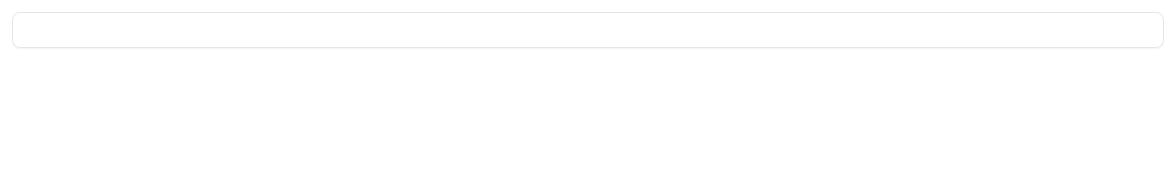
Scenario: WorkContentInput › Escapeでドロップダウンが閉じる
Click the field at (588, 30), box 12,12 -> 1164,48
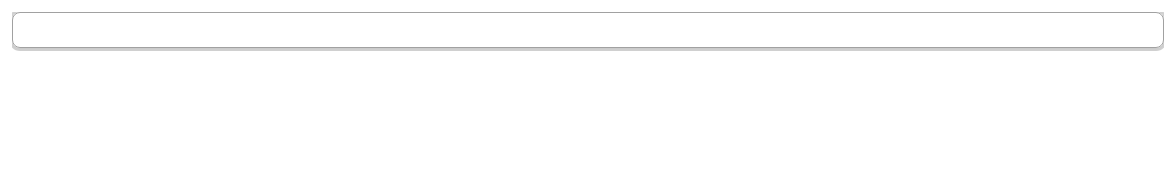
Type keys "T"
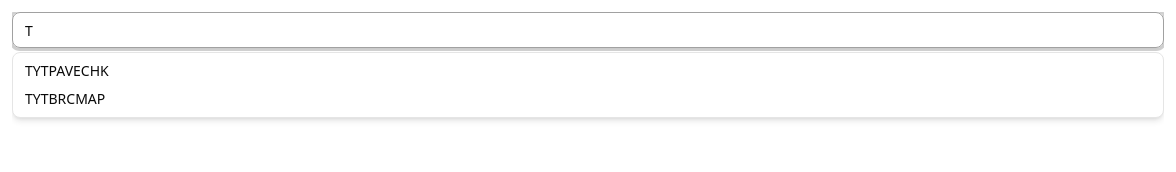
Expected: the list is shown, 12,52 -> 1164,118
Press Escape
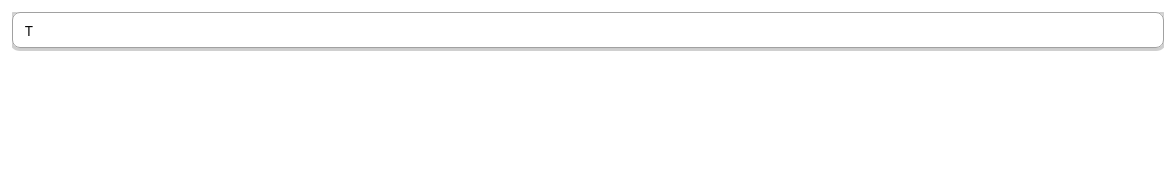
Expected: the list is gone
